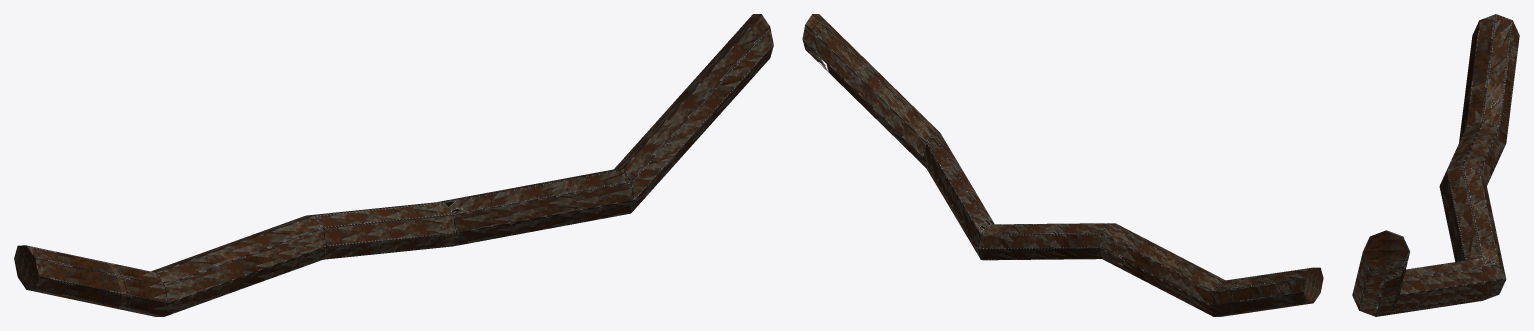
Rendered from cable1.fbx.
3 renders of one model, left to right at view 1: azimuth 30°, elevation 25°; view 2: azimuth 150°, elevation 25°; view 3: azimuth 270°, elevation 25°, orthographic. The views are drawn at different scales.
Parts seen in each view (by area): view 1: cable 1; view 2: cable 1; view 3: cable 1.
Boxes of the visible parts, x1,y1,x2,y2 form: cable 1: (14, 14, 773, 316); cable 1: (802, 14, 1323, 316); cable 1: (1352, 14, 1519, 316).
Size of the model in its own units: 3195 by 917 by 707.
Materials: 1 (1 with a texture image).
